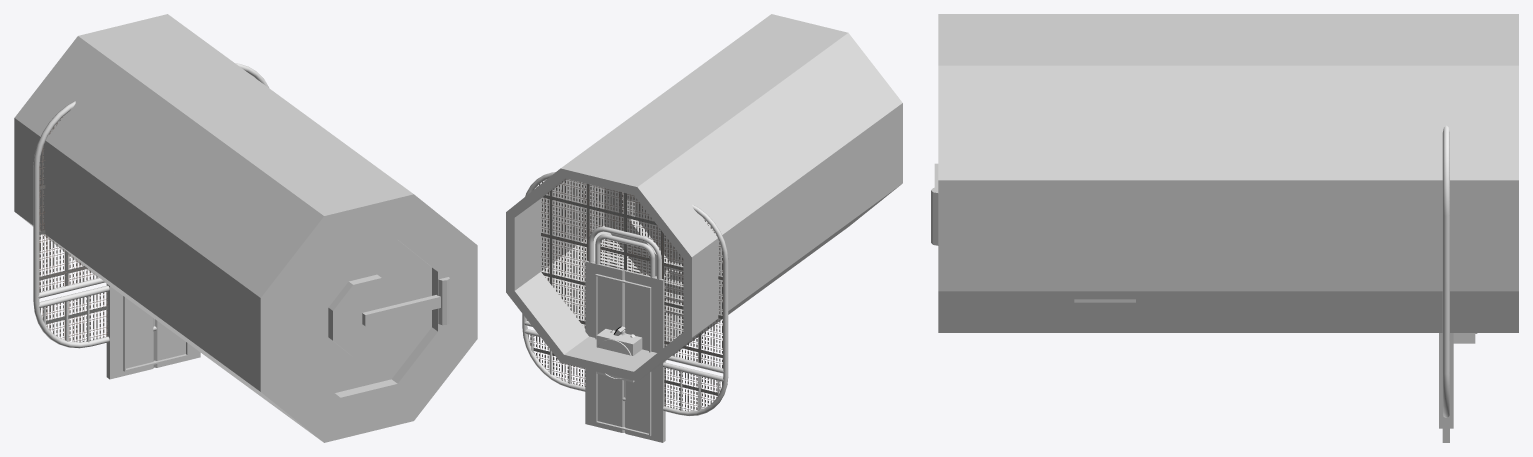
3 views of the same model, side by side, from view 1: azimuth 30°, elevation 25°; view 2: azimuth 150°, elevation 25°; view 3: azimuth 270°, elevation 25° (orthographic). The views are drawn at different scales.
Parts seen in each view (by area): view 1: airlock_structure, airlock_outer_door, pCylinder47, pTorus29, door_right, door_left, door_frame; view 2: airlock_structure, pTorus29, door_right, door_left, pCylinder47, door_frame, box, pTorus30, airlock_inner_door, pTorus16; view 3: airlock_structure, pCylinder47, door_frame.
Boxes of the visible parts, bbox=[...] form: airlock_structure: bbox=[14, 14, 477, 442]; airlock_outer_door: bbox=[300, 239, 440, 392]; pCylinder47: bbox=[33, 63, 268, 348]; pTorus29: bbox=[39, 117, 108, 342]; door_right: bbox=[106, 284, 153, 379]; door_left: bbox=[154, 319, 200, 367]; door_frame: bbox=[123, 296, 188, 371]; airlock_structure: bbox=[506, 14, 902, 381]; pTorus29: bbox=[527, 179, 723, 411]; door_right: bbox=[625, 269, 665, 442]; door_left: bbox=[585, 260, 624, 432]; pCylinder47: bbox=[522, 172, 728, 416]; door_frame: bbox=[595, 274, 651, 436]; box: bbox=[596, 329, 642, 382]; pTorus30: bbox=[600, 239, 650, 275]; airlock_inner_door: bbox=[627, 193, 683, 264]; pTorus16: bbox=[595, 234, 655, 277]; airlock_structure: bbox=[931, 14, 1518, 332]; pCylinder47: bbox=[1442, 125, 1449, 417]; door_frame: bbox=[1439, 333, 1453, 428].
Size of what is drawn, in the model's own units: 5.62 by 7.17 by 10.12.
8 materials, 1 textured.
